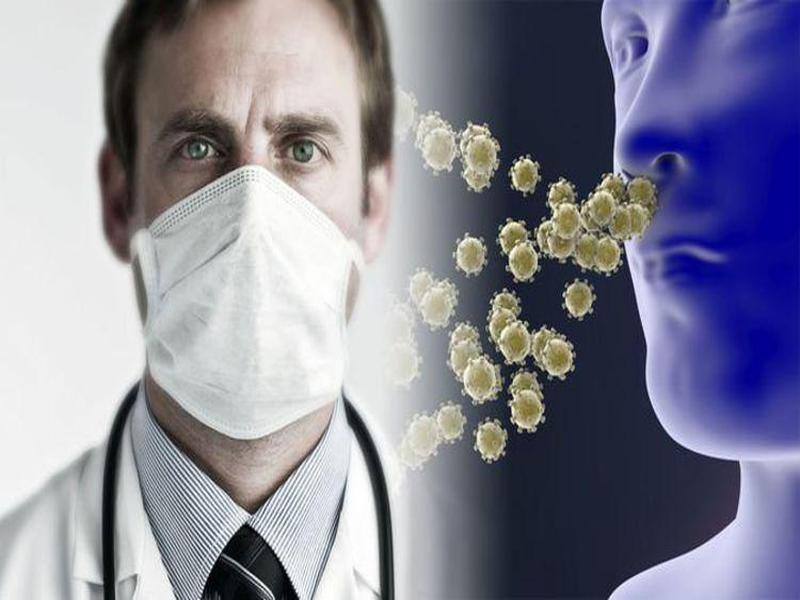with_mask: (130, 1, 365, 441)
